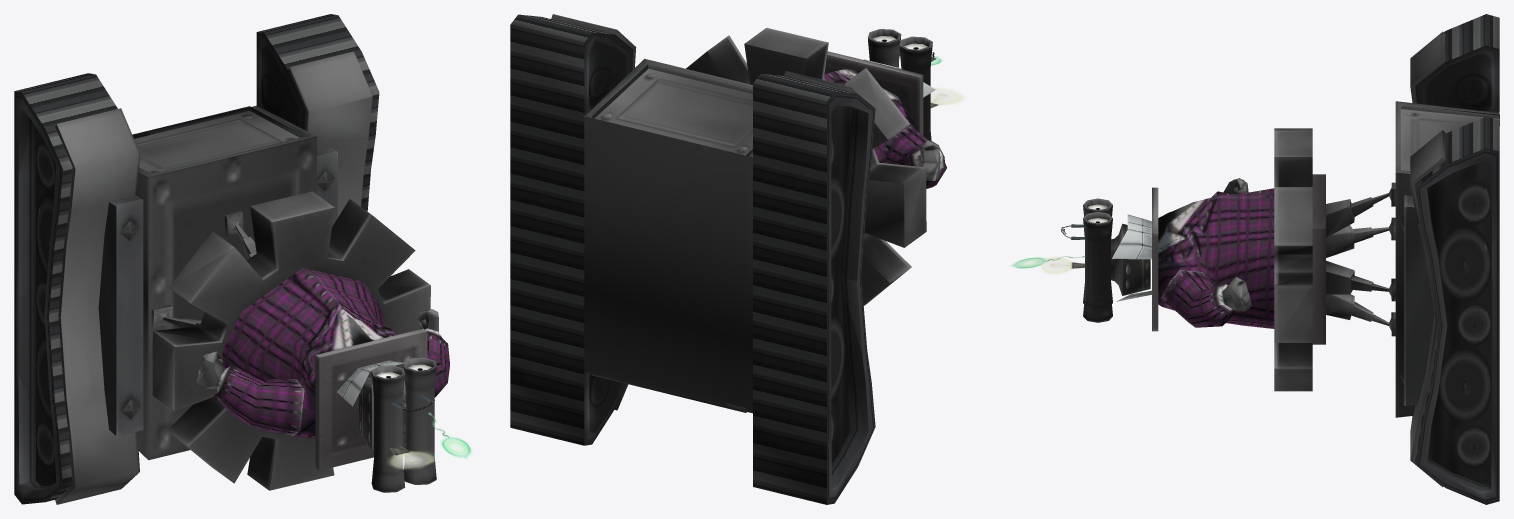
The model's file is sellbot_vp.glb.
3 renders of one model, left to right at view 1: azimuth 30°, elevation 25°; view 2: azimuth 150°, elevation 25°; view 3: azimuth 270°, elevation 25°, orthographic. The views are drawn at different scales.
Parts seen in each view (by area): view 1: joint_axle, joint_pelvis, bossCog-torso, right_side, joint34, joint35, right_tread, DoorFront, left_tread; view 2: joint_axle, left_tread, right_tread, joint_pelvis, right_side, DoorFront, joint35, bossCog-torso, joint34; view 3: joint_axle, bossCog-torso, joint_pelvis, left_side, joint35, joint34, bossCog-legs, joint_legs, DoorFront, left_tread, right_tread.
Boxes of the visible parts, box(x1,y1,x2,y2) form: joint_axle: box(35, 32, 372, 504); joint_pelvis: box(152, 191, 430, 490); bossCog-torso: box(196, 268, 449, 439); right_side: box(14, 91, 62, 504); joint34: box(315, 328, 427, 470); joint35: box(371, 357, 471, 492); right_tread: box(15, 73, 117, 501); DoorFront: box(132, 106, 305, 173); left_tread: box(257, 14, 379, 211); joint_axle: box(551, 14, 857, 463); left_tread: box(510, 14, 613, 445); right_tread: box(753, 73, 856, 504); joint_pelvis: box(686, 28, 926, 305); right_side: box(827, 91, 875, 504); DoorFront: box(591, 64, 752, 155); joint35: box(868, 29, 964, 140); bossCog-torso: box(824, 69, 946, 188); joint34: box(824, 51, 935, 147); joint_axle: box(1395, 31, 1499, 487); bossCog-torso: box(1158, 178, 1274, 328); joint_pelvis: box(1274, 128, 1312, 391); left_side: box(1415, 148, 1499, 504); joint35: box(1010, 198, 1112, 322); joint34: box(1111, 187, 1158, 331); bossCog-legs: box(1326, 199, 1354, 319); joint_legs: box(1312, 174, 1325, 344); DoorFront: box(1401, 106, 1499, 170); left_tread: box(1415, 116, 1499, 462); right_tread: box(1444, 14, 1499, 61).
Bounding box in the file's own units: 16.61 × 20.66 × 25.78.
16 materials, 14 textured.
